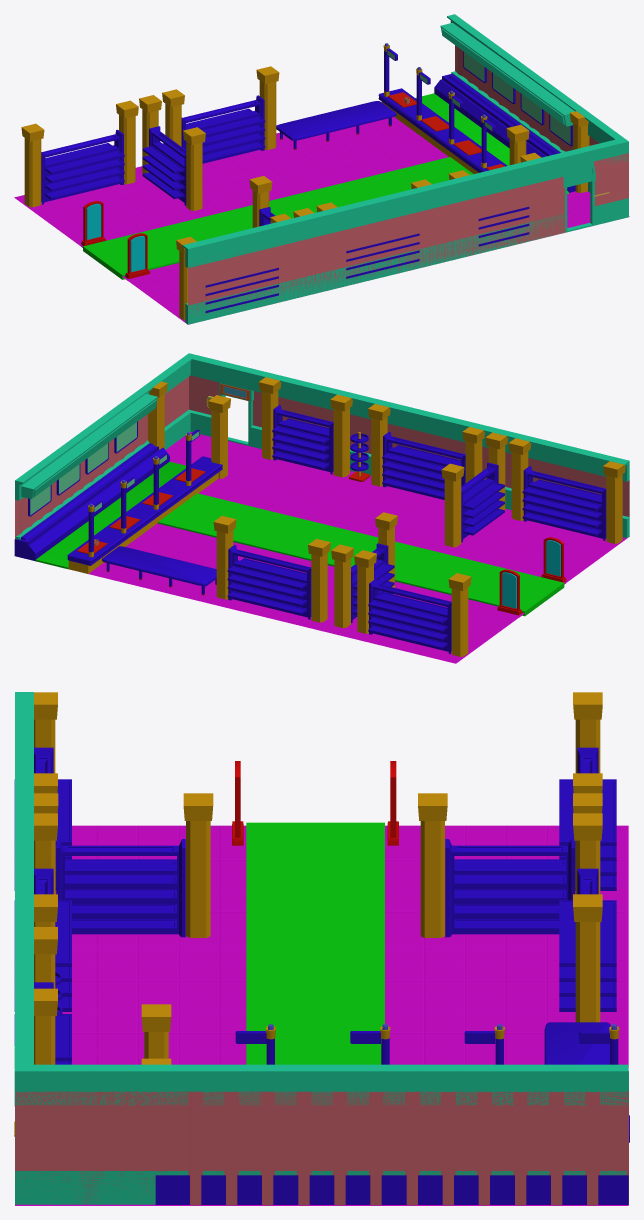
File: Mal Floor 1.fbx
3 renders of one model, top to bottom at view 1: azimuth 30°, elevation 25°; view 2: azimuth 150°, elevation 25°; view 3: azimuth 270°, elevation 25°, orthographic. The views are drawn at different scales.
Parts seen in each view (by area): view 1: Cube.004, Cube.011, Cube.007, Cube.005, Cube.006, Cube.016, Cube.003, Cube.023, Cube.012, Cube.002, Cube.037, Cube.022 (+19 smaller); view 2: Cube.004, Cube.007, Cube.005, Cube.011, Cube.023, Cube.003, Cube.017, Cube.016, Cube.014, Cube.064, Cube.012, Cube.022 (+26 smaller); view 3: Cube.004, Cube, Cube.005, Cube.007, Cube.012, Cube.002, Cube.013, Cube.023, Cube.015, Cube.003, Cube.045, Cube.043 (+14 smaller).
Boxes of the visible parts, box(x1,y1,x2,y2) form: Cube.004: box(14, 117, 629, 324); Cube.011: box(188, 176, 565, 322); Cube.007: box(182, 14, 628, 268); Cube.005: box(83, 157, 473, 279); Cube.006: box(185, 173, 567, 324); Cube.016: box(41, 129, 124, 204); Cube.003: box(181, 95, 265, 163); Cube.023: box(434, 74, 575, 192); Cube.012: box(455, 45, 628, 206); Cube.002: box(142, 126, 186, 205); Cube.037: box(276, 101, 396, 140); Cube.022: box(378, 88, 507, 172); Cube.004: box(88, 432, 629, 663); Cube.007: box(15, 353, 629, 500); Cube.005: box(158, 493, 564, 616); Cube.011: box(253, 391, 629, 516); Cube.023: box(14, 443, 169, 561); Cube.003: box(227, 545, 311, 619); Cube.017: box(522, 466, 606, 540); Cube.016: box(368, 579, 451, 653); Cube.014: box(382, 432, 465, 499); Cube.064: box(272, 405, 333, 474); Cube.012: box(15, 375, 220, 539); Cube.022: box(67, 456, 222, 565); Cube.004: box(15, 825, 628, 1205); Cube: box(15, 1091, 628, 1204); Cube.005: box(246, 822, 384, 1064); Cube.007: box(15, 692, 628, 1105); Cube.012: box(15, 1091, 599, 1205); Cube.002: box(445, 839, 574, 937); Cube.013: box(56, 839, 185, 937); Cube.023: box(155, 1175, 628, 1204); Cube.015: box(14, 1069, 626, 1204); Cube.003: box(559, 868, 616, 1011); Cube.045: box(183, 793, 213, 937); Cube.043: box(418, 793, 447, 937).
Bounding box in the file's own units: 2664 × 454 × 1823.
